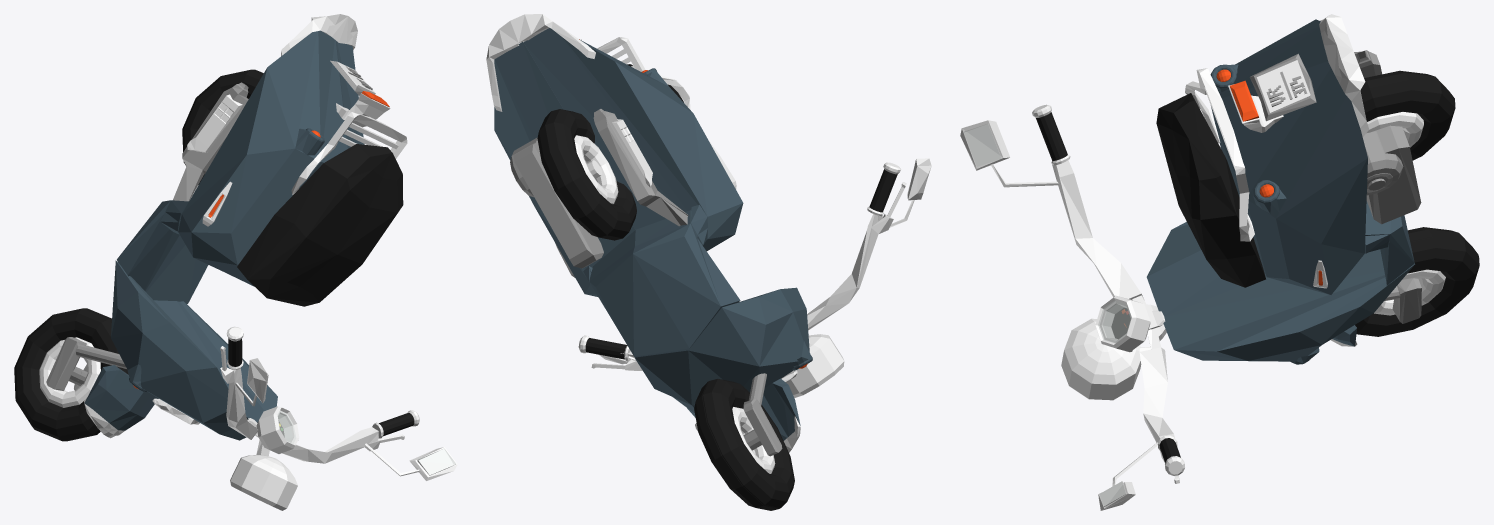
Rendered from vr-mobil.dae.
The picture shows the model from 3 angles, left to right: view 1: azimuth 30°, elevation 25°; view 2: azimuth 150°, elevation 25°; view 3: azimuth 270°, elevation 25°; orthographic projection. The views are drawn at different scales.
Visible parts, largest first — view 1: Node; view 2: Node; view 3: Node.
Boxes of the visible parts, left/top/right/bottom form: Node: left=14, top=14, right=457, bottom=510; Node: left=486, top=14, right=931, bottom=510; Node: left=960, top=14, right=1479, bottom=510.
Bounding box in the file's own units: 3.29 × 4.02 × 4.06.
